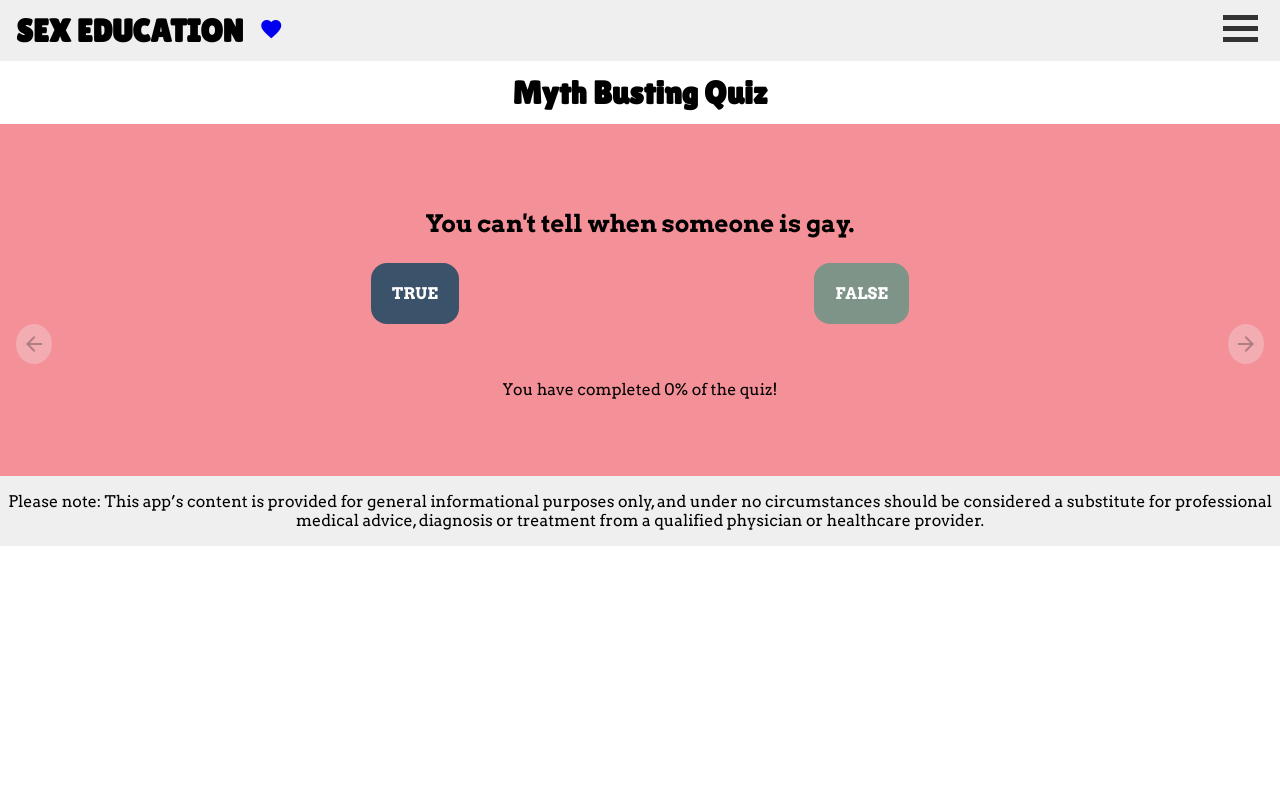
Test: Quiz › Should be able to click the false button, get the result and answer
Click the radio button with class "false-label" at (862, 294), box [814,263,909,324]
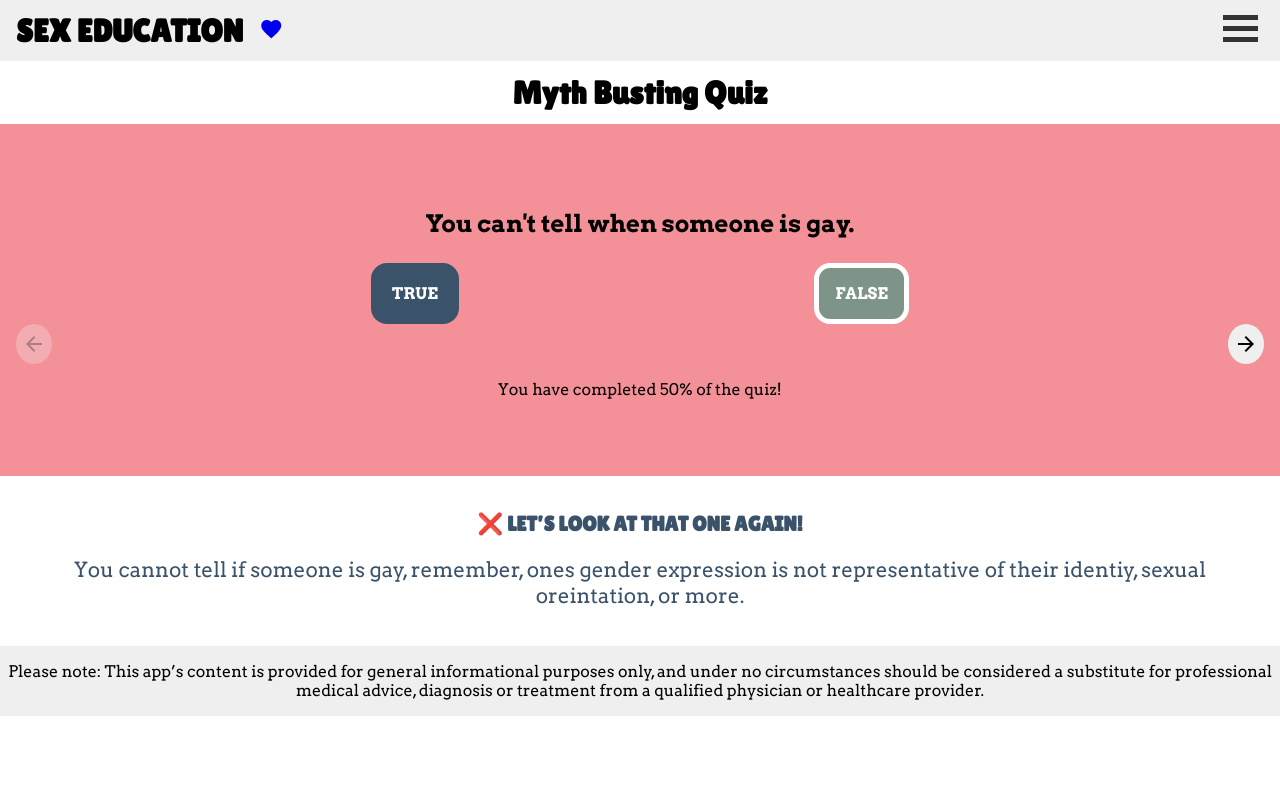
Check: the text "You cannot tell if someone is gay, remember, ones gender expression is not representative of their identiy, sexual orein" is shown, box [74,557,1206,608]
